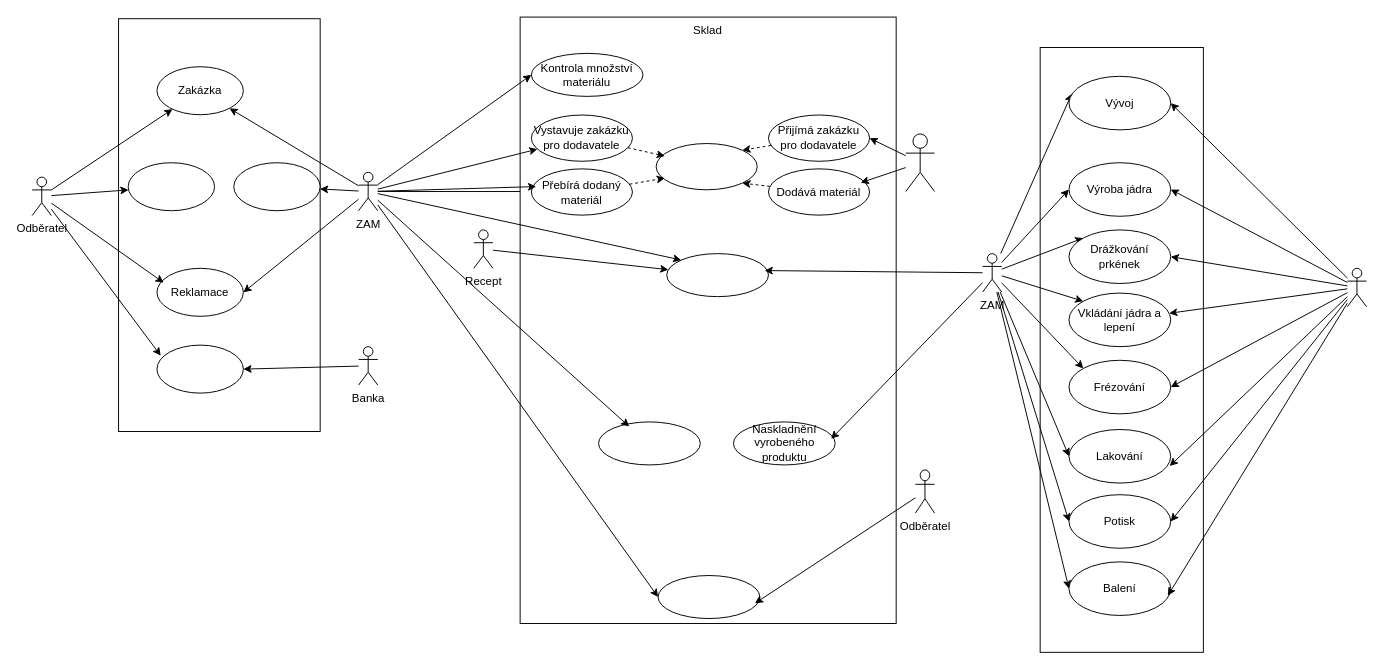
This 1392x669 diagram has some shape labels left out. Each missing label, with the box of its shape:
Budova (office): (118, 18, 320, 432)
Dodavatel: (905, 133, 935, 192)
Expedice produktu: (598, 421, 700, 465)
Hala (výroba): (1039, 47, 1203, 652)
Materiál do výroby: (666, 253, 768, 297)
Odvoz odpadů: (657, 575, 760, 619)
Platba: (156, 344, 243, 393)
předání produktu: (233, 162, 320, 211)
převzetí produktu: (127, 162, 215, 211)
STROJ: (1346, 267, 1367, 307)
Zakázka na materiál: (655, 143, 757, 190)
